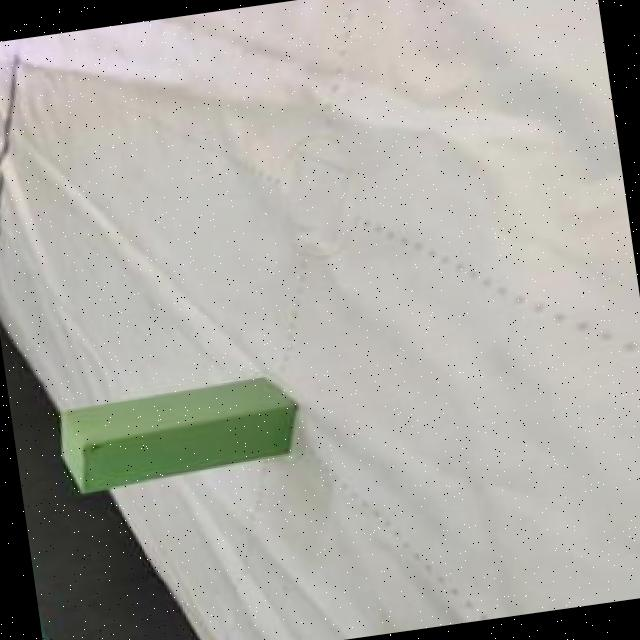greenbox: (52, 378, 302, 494)
